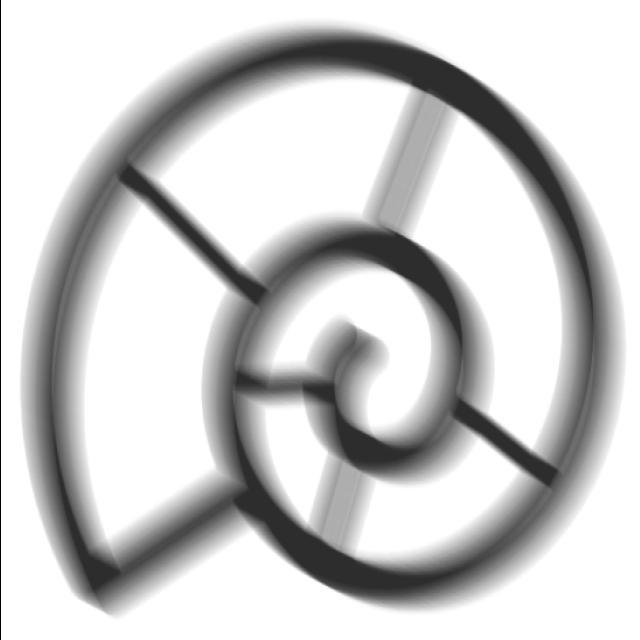fossil: (11, 16, 630, 627)
